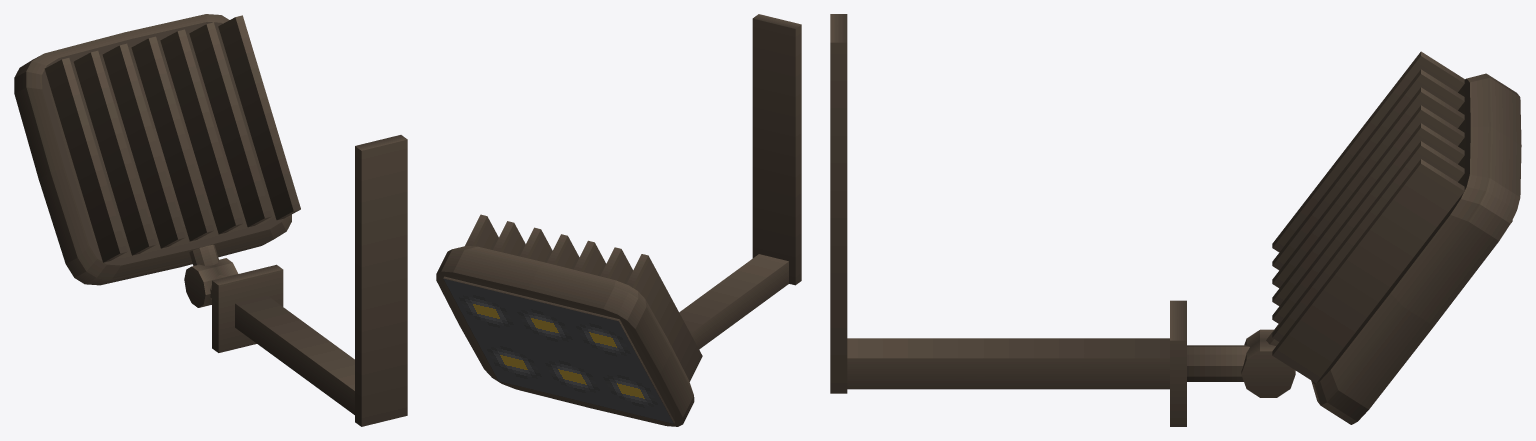
Rendered from floodlight_geefmkn_x.obj.
The picture shows the model from 3 angles, left to right: view 1: azimuth 30°, elevation 25°; view 2: azimuth 150°, elevation 25°; view 3: azimuth 270°, elevation 25°; orthographic projection. The views are drawn at different scales.
Parts seen in each view (by area): view 1: fixture; view 2: fixture; view 3: fixture.
Boxes of the visible parts, bbox=[...] form: fixture: bbox=[14, 14, 407, 426]; fixture: bbox=[436, 14, 801, 426]; fixture: bbox=[830, 14, 1521, 426].
Bounding box in the file's own units: 0.5857 × 0.7687 × 1.27.
